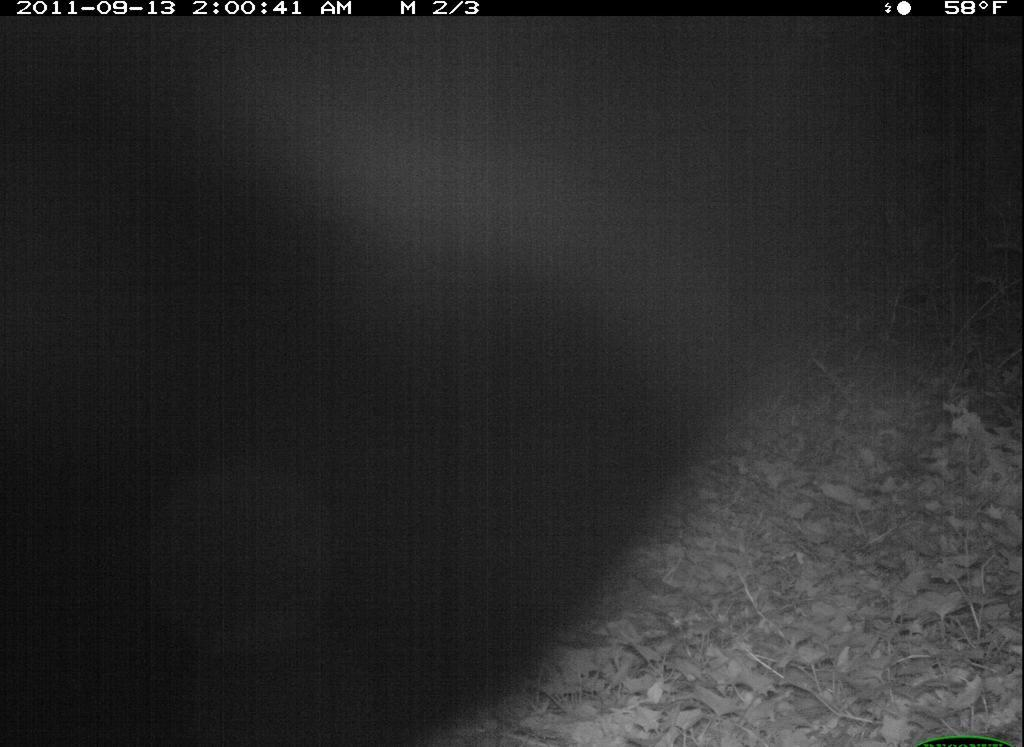coyote: (315, 186, 666, 509)
